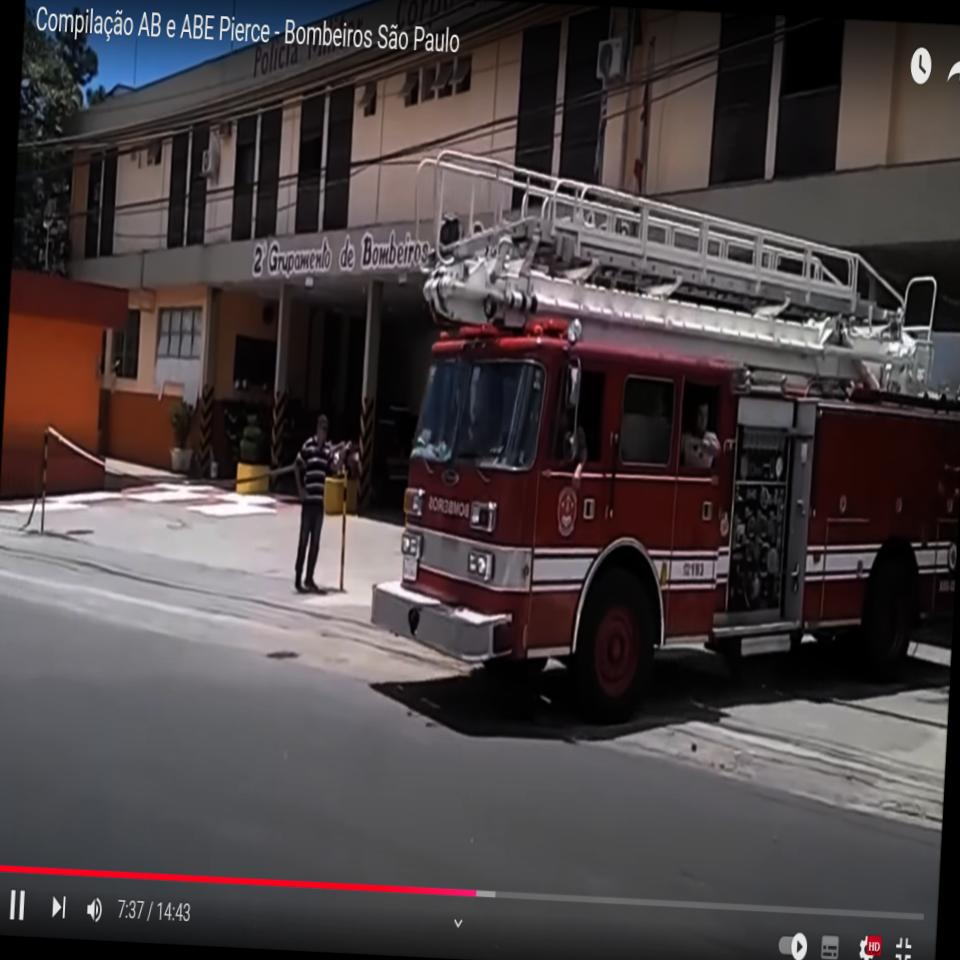viatura: (385, 139, 960, 748)
